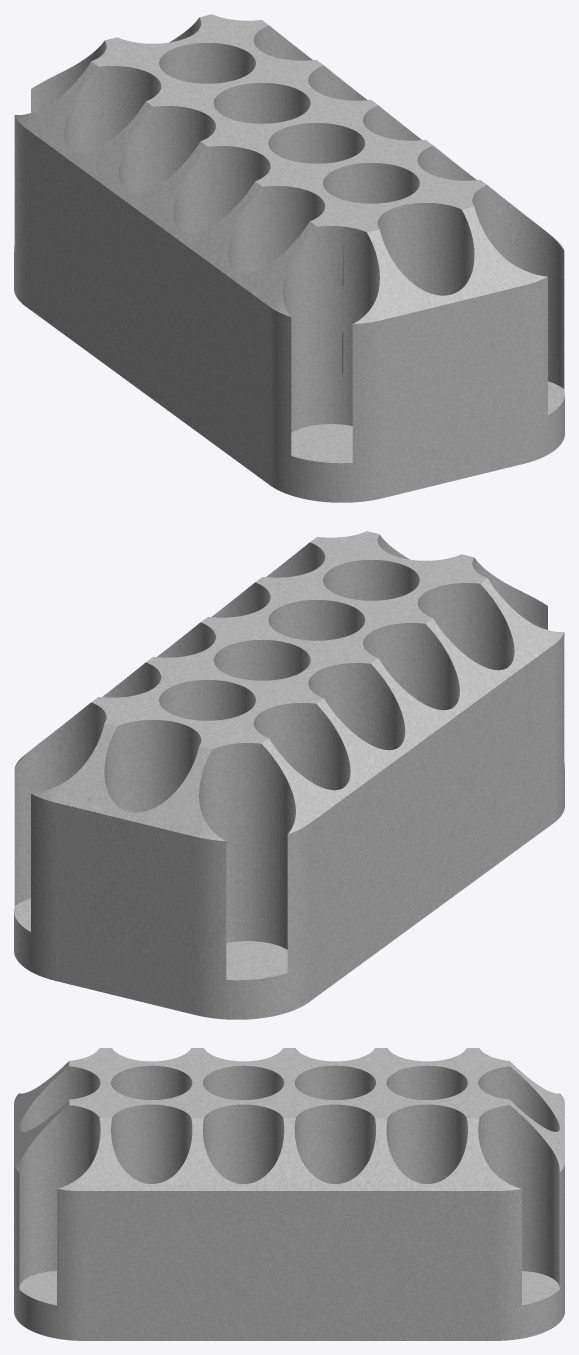
The model's file is AAA.glb.
3 renders of one model, top to bottom at view 1: azimuth 30°, elevation 25°; view 2: azimuth 150°, elevation 25°; view 3: azimuth 270°, elevation 25°, orthographic. The views are drawn at different scales.
Parts seen in each view (by area): view 1: AAA; view 2: AAA; view 3: AAA.
Part boxes in pixels (x1,y1,x2,y2): AAA: (14, 14, 564, 502); AAA: (14, 531, 564, 1019); AAA: (14, 1048, 564, 1340).
Bounding box in the file's own units: 1.5 × 1.2 × 3.
Materials: 1 (1 with a texture image).
